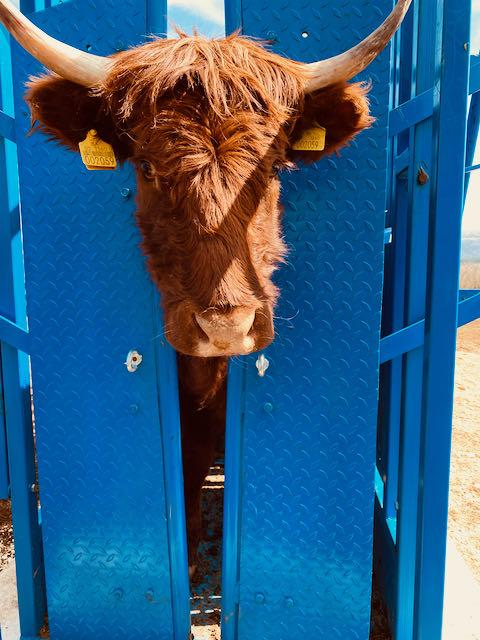muzzles: (150, 296, 280, 367)
